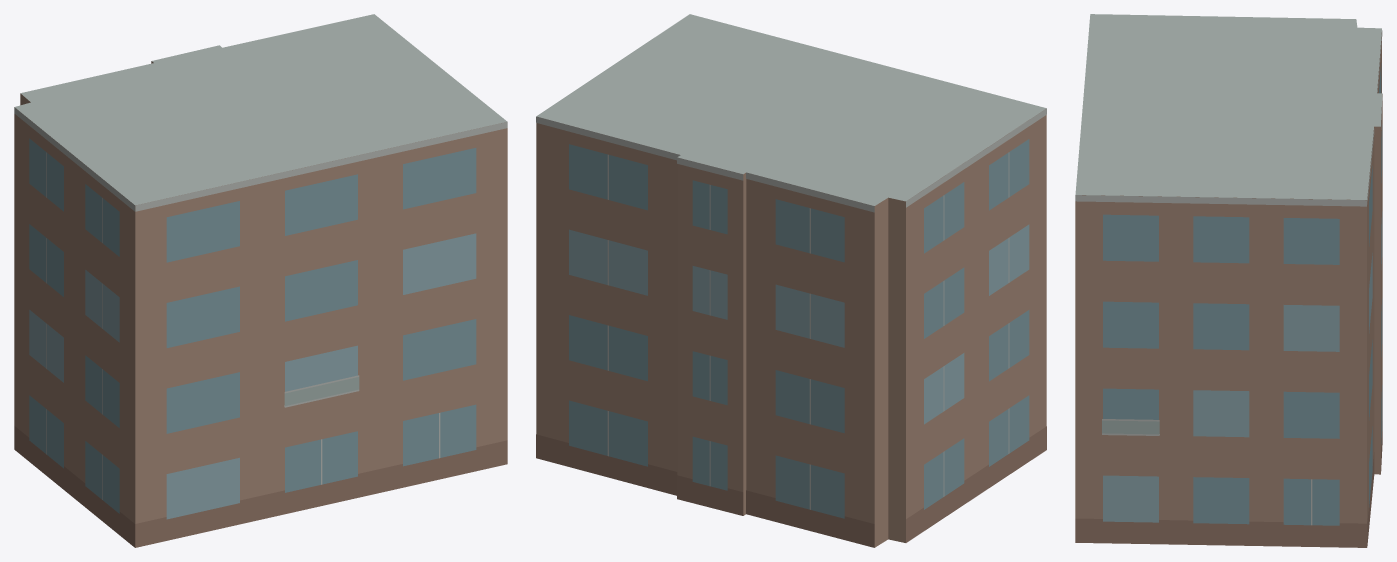
File: survey-upis-32653447.glb
The picture shows the model from 3 angles, left to right: view 1: azimuth 30°, elevation 25°; view 2: azimuth 150°, elevation 25°; view 3: azimuth 270°, elevation 25°; orthographic projection.
Parts seen in each view (by area): view 1: survey-upis-32653447.tmp; view 2: survey-upis-32653447.tmp; view 3: survey-upis-32653447.tmp.
Boxes of the visible parts, box(x1,y1,x2,y2) form: survey-upis-32653447.tmp: box(14, 14, 507, 547); survey-upis-32653447.tmp: box(536, 14, 1046, 547); survey-upis-32653447.tmp: box(1075, 14, 1382, 547).
Bounding box in the file's own units: 14.92 × 13 × 10.41.
